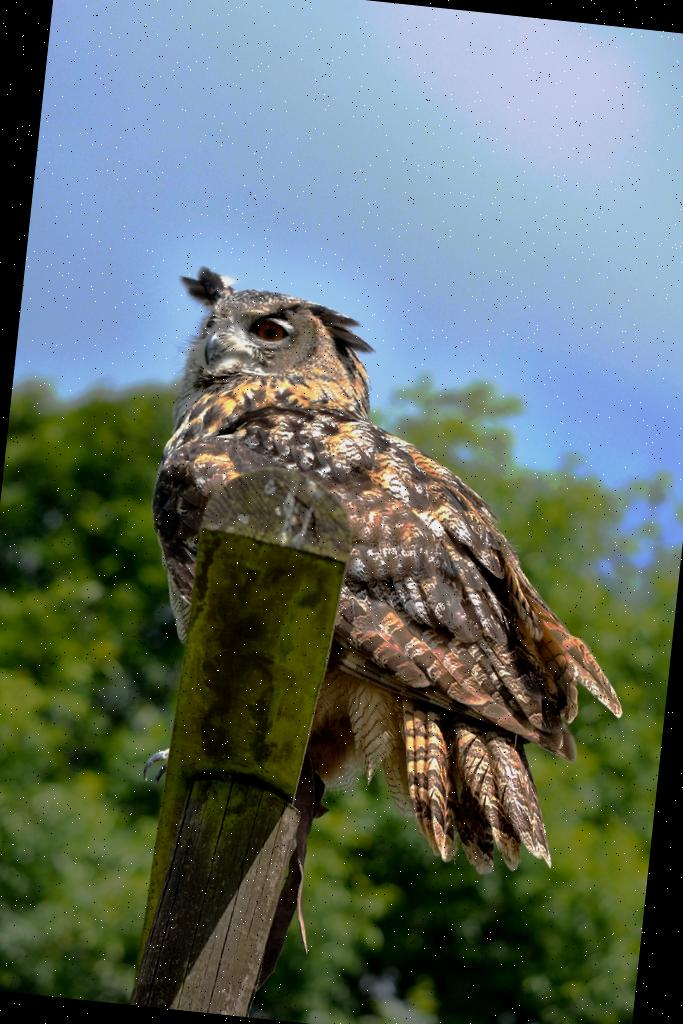Owl: (112, 258, 667, 886)
